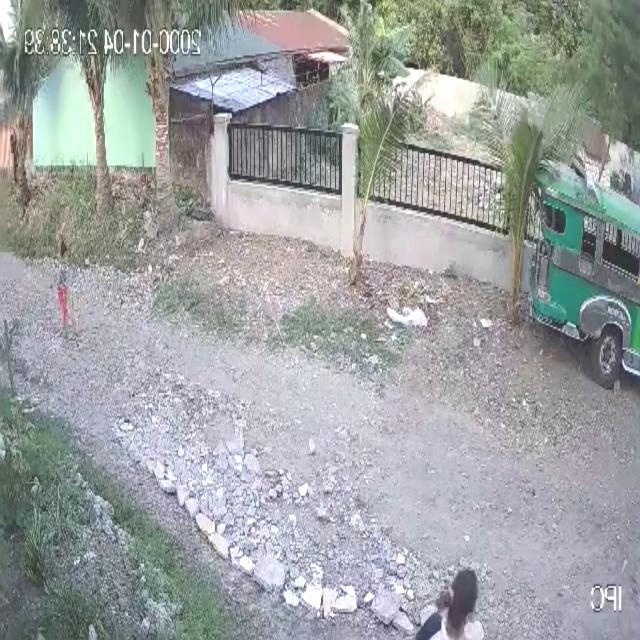walking: (410, 560, 485, 640), (56, 236, 78, 345), (10, 126, 20, 190)
